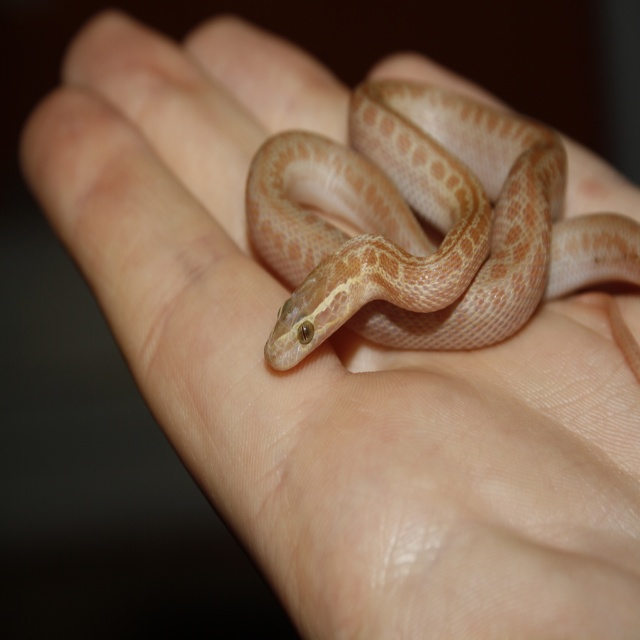Snake: (250, 77, 640, 384)
